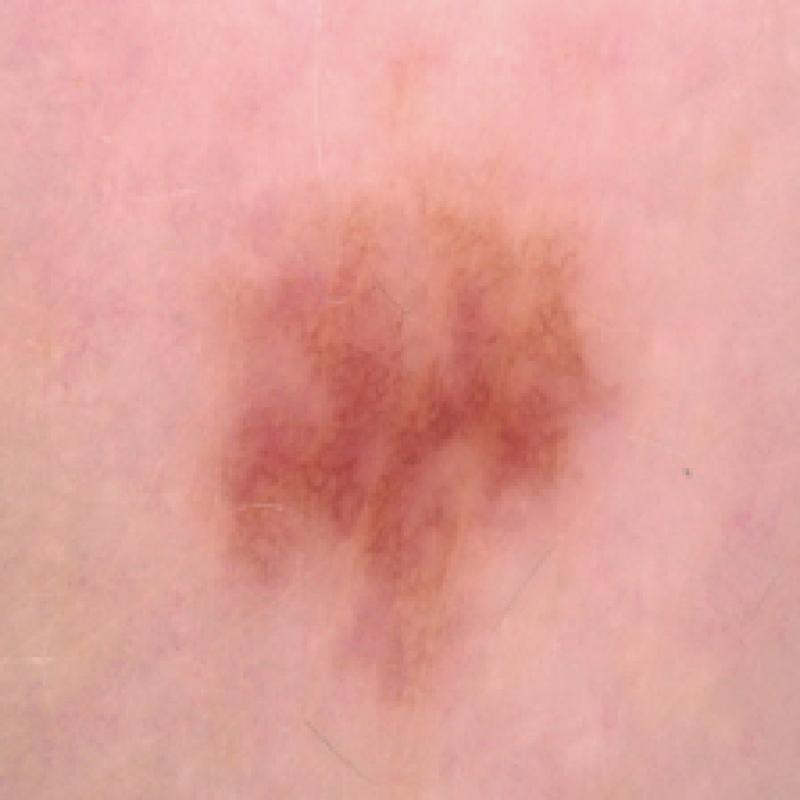benign: (176, 142, 636, 718)
